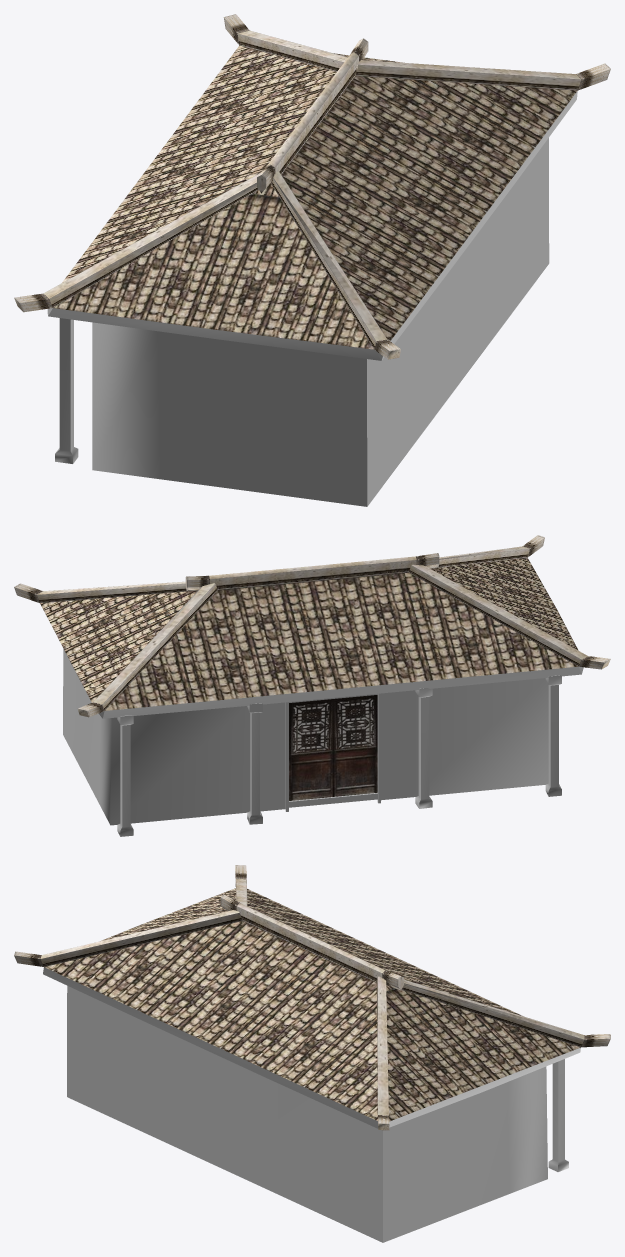
File: BTF16.FBX
3 views of the same model, one above another, from view 1: azimuth 30°, elevation 25°; view 2: azimuth 150°, elevation 25°; view 3: azimuth 270°, elevation 25° (orthographic). The views are drawn at different scales.
Visible parts, largest first — view 1: Btf16; view 2: Btf16; view 3: Btf16.
Part boxes in pixels (x1,y1,x2,y2): Btf16: (14, 14, 610, 506); Btf16: (14, 535, 610, 836); Btf16: (14, 865, 610, 1242).
Size of the model in its own units: 410 by 150 by 399.
